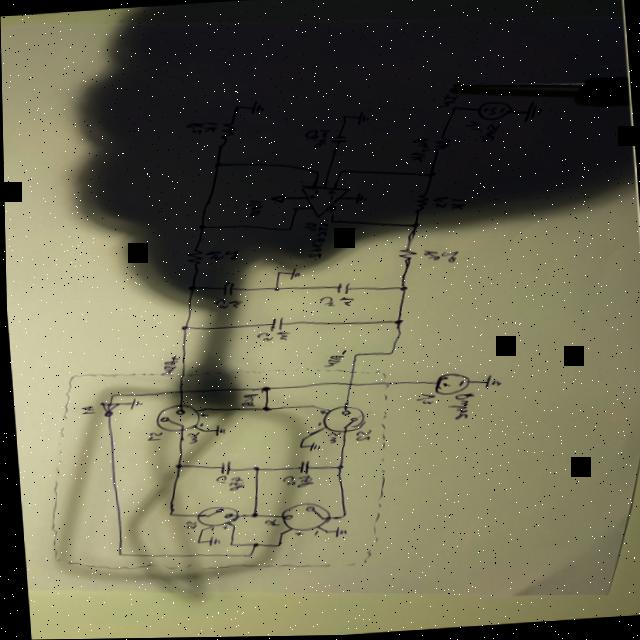capacitor: (331, 282, 350, 296), (266, 317, 283, 332), (293, 461, 308, 476), (218, 282, 233, 297), (215, 461, 229, 477), (328, 136, 346, 145)
crossover: (342, 383, 350, 388), (174, 390, 181, 395)
ground: (519, 102, 542, 125), (481, 375, 500, 390), (246, 101, 265, 116), (354, 111, 369, 126), (125, 397, 140, 411), (210, 424, 223, 438), (284, 268, 298, 281), (351, 193, 366, 205), (329, 527, 344, 538), (203, 536, 218, 547), (305, 441, 318, 453)
junction: (256, 386, 268, 394), (423, 172, 435, 180), (390, 319, 400, 327), (210, 161, 220, 169), (258, 406, 268, 413), (395, 286, 405, 293), (332, 465, 342, 472), (245, 512, 255, 519), (194, 224, 204, 231), (185, 285, 195, 292), (408, 223, 418, 230), (162, 511, 172, 518), (310, 169, 320, 176), (334, 170, 344, 176), (248, 466, 257, 472), (177, 325, 186, 331), (170, 463, 179, 469), (324, 219, 333, 225), (230, 105, 239, 111), (349, 353, 357, 359), (270, 287, 279, 292), (247, 543, 256, 548), (283, 228, 292, 233), (288, 207, 297, 212), (449, 107, 457, 112), (304, 405, 313, 409), (383, 353, 391, 357), (271, 543, 279, 547), (111, 552, 119, 556), (241, 554, 249, 558), (336, 515, 344, 519), (273, 533, 281, 537), (296, 438, 304, 442), (339, 116, 346, 120), (272, 271, 279, 275), (295, 445, 302, 449), (198, 430, 205, 434), (199, 407, 205, 411), (106, 394, 113, 397), (192, 542, 198, 545), (225, 543, 231, 546), (197, 529, 201, 532), (321, 531, 325, 534), (228, 526, 232, 528)
resistor: (214, 123, 236, 150), (409, 193, 428, 214), (182, 248, 202, 267), (428, 137, 452, 152), (394, 248, 415, 262)
source: (430, 372, 467, 397), (475, 103, 508, 123), (266, 195, 285, 205)
switch: (274, 501, 327, 535), (149, 402, 202, 433), (317, 405, 362, 435), (191, 505, 237, 532)
text: (302, 224, 329, 260), (445, 394, 472, 421), (319, 350, 347, 369), (309, 130, 331, 151), (477, 124, 500, 143), (158, 356, 178, 375), (243, 200, 262, 218), (223, 476, 243, 491), (435, 95, 457, 108), (410, 393, 432, 406), (409, 139, 428, 154), (236, 394, 255, 409), (437, 252, 458, 265), (461, 121, 480, 135), (419, 250, 439, 263), (183, 123, 203, 136), (429, 197, 448, 210), (292, 475, 311, 488), (351, 430, 370, 443), (407, 152, 425, 165), (447, 199, 464, 212), (202, 250, 220, 262), (201, 121, 217, 134), (301, 130, 318, 142), (271, 331, 289, 342), (143, 432, 161, 443), (76, 405, 94, 416), (324, 432, 339, 445), (221, 251, 238, 262), (317, 297, 334, 308), (253, 333, 271, 343), (336, 297, 352, 308), (277, 476, 293, 487), (183, 432, 196, 445), (211, 299, 226, 310), (211, 475, 225, 486), (301, 222, 315, 233), (224, 300, 240, 309), (260, 519, 276, 528), (180, 521, 194, 530), (195, 412, 205, 421), (305, 194, 315, 202), (290, 531, 300, 537), (315, 410, 324, 416), (196, 422, 204, 427), (325, 191, 334, 195), (217, 525, 224, 530), (308, 190, 316, 194), (311, 422, 319, 426), (307, 532, 315, 536), (326, 197, 331, 202), (205, 527, 212, 530)
